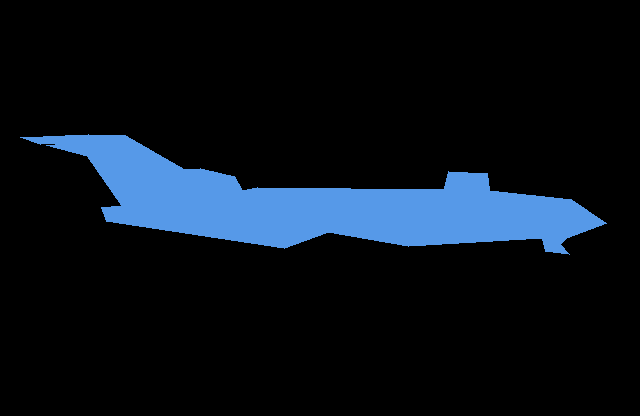Airplane: (20, 134, 607, 254)
